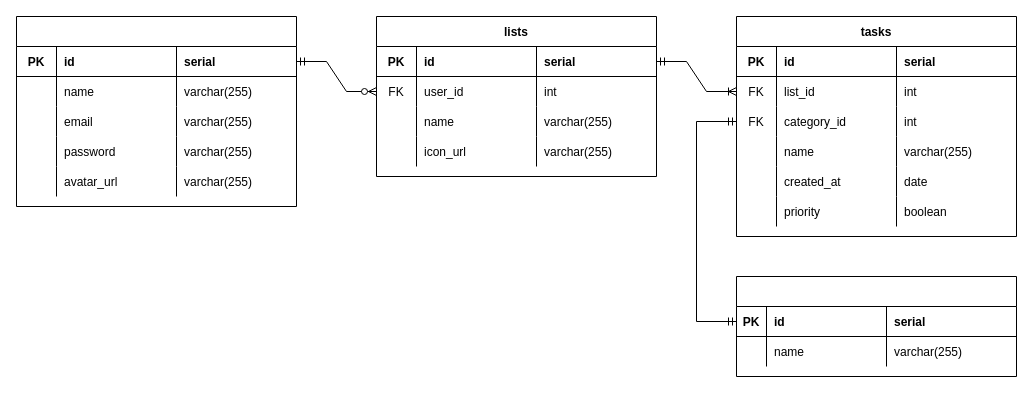
The diagram is 1033 pixels wide and 393 high, and some of its shapes have lost their labels. Here are the shapes that lost their labels. From the top down, the box of each, then its label:
(16, 16, 296, 206): users
(736, 276, 1016, 376): categories
